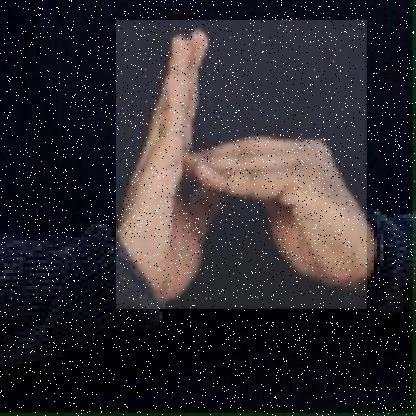Z: (116, 20, 368, 310)
